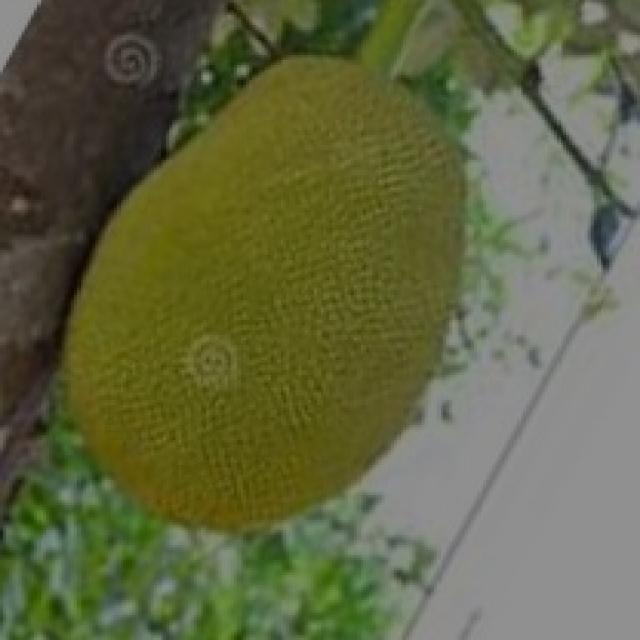Fruit: (178, 20, 517, 458)
